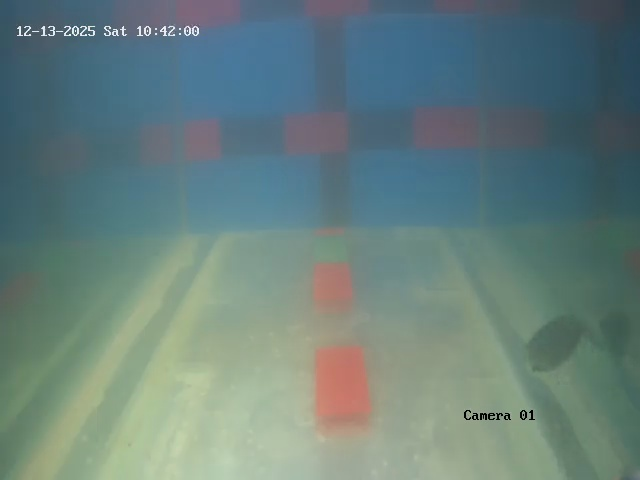fish: (523, 314, 588, 377)
